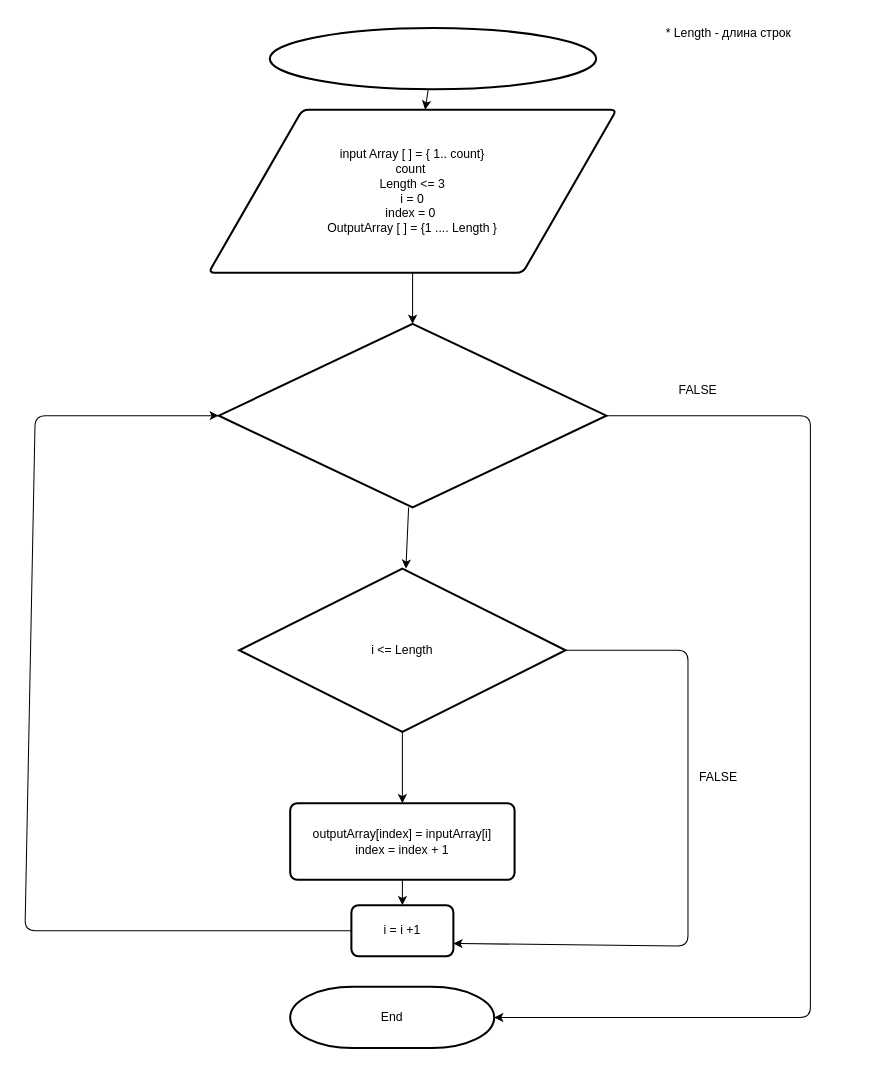
The diagram is 869 pixels wide and 1066 high, and some of its shapes have lost their labels. Here are the shapes that lost their labels. From the top down, the centre of each, then its label:
At (432,58): "Start".
At (412,415): "i < count".
